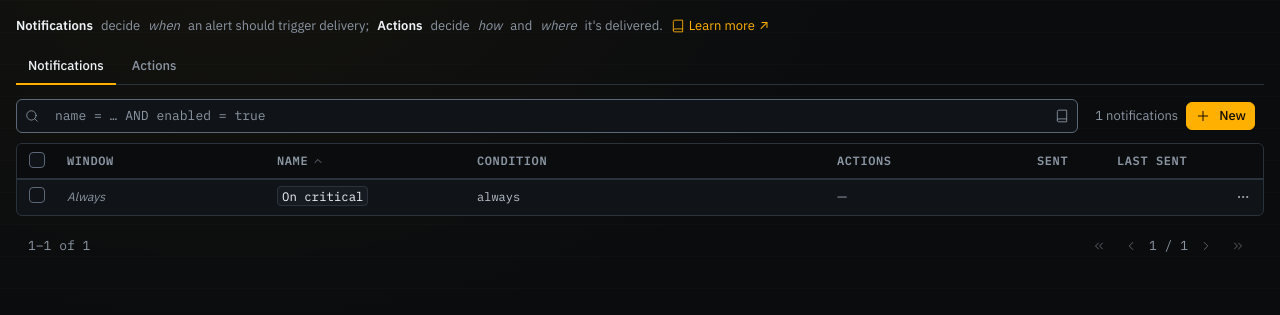
NotificationsPage › selecting a row switches the toolbar to the amber bulk-actions chip on both tabs
Expected: the text "On critical" is shown, [277, 186, 368, 206]
Click the checkbox named "select row" at (37, 195), box [29, 187, 45, 203]
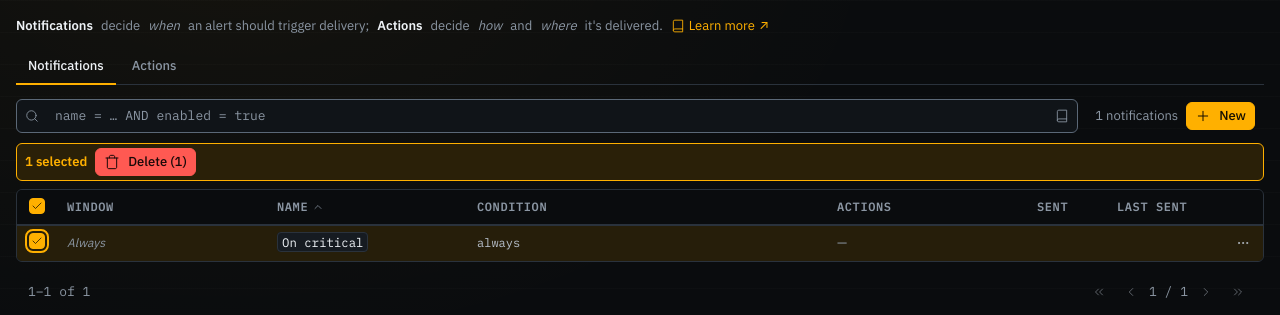
Now the element named "bulk actions" is shown, box [16, 143, 1264, 181]
Now the text "1 selected" is shown, box [25, 152, 87, 172]
Click the tab "Actions" at (154, 66), box [120, 48, 188, 85]
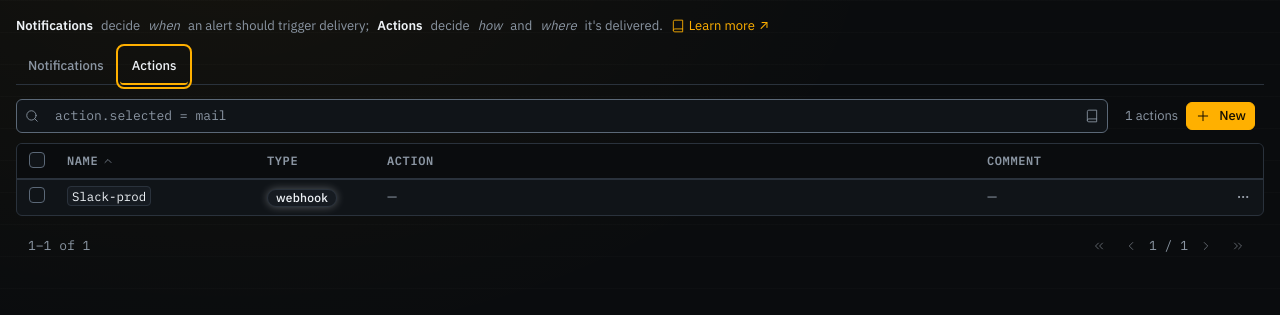
Now the text "Slack-prod" is shown, box [67, 186, 151, 206]
Click the checkbox named "select row" at (37, 195), box [29, 187, 45, 203]
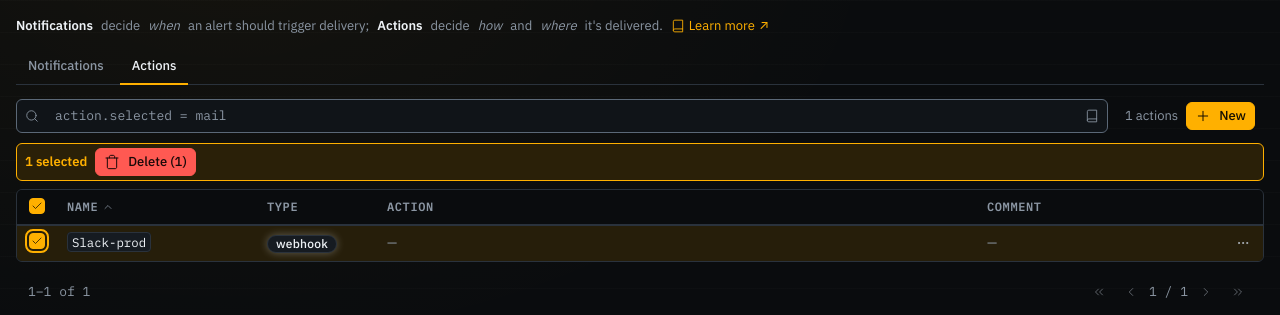
Now the element named "bulk actions" is shown, box [16, 143, 1264, 181]
Now the text "1 selected" is shown, box [25, 152, 87, 172]
